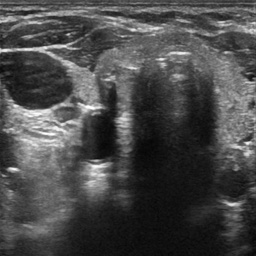mass: (94, 50, 129, 99)
